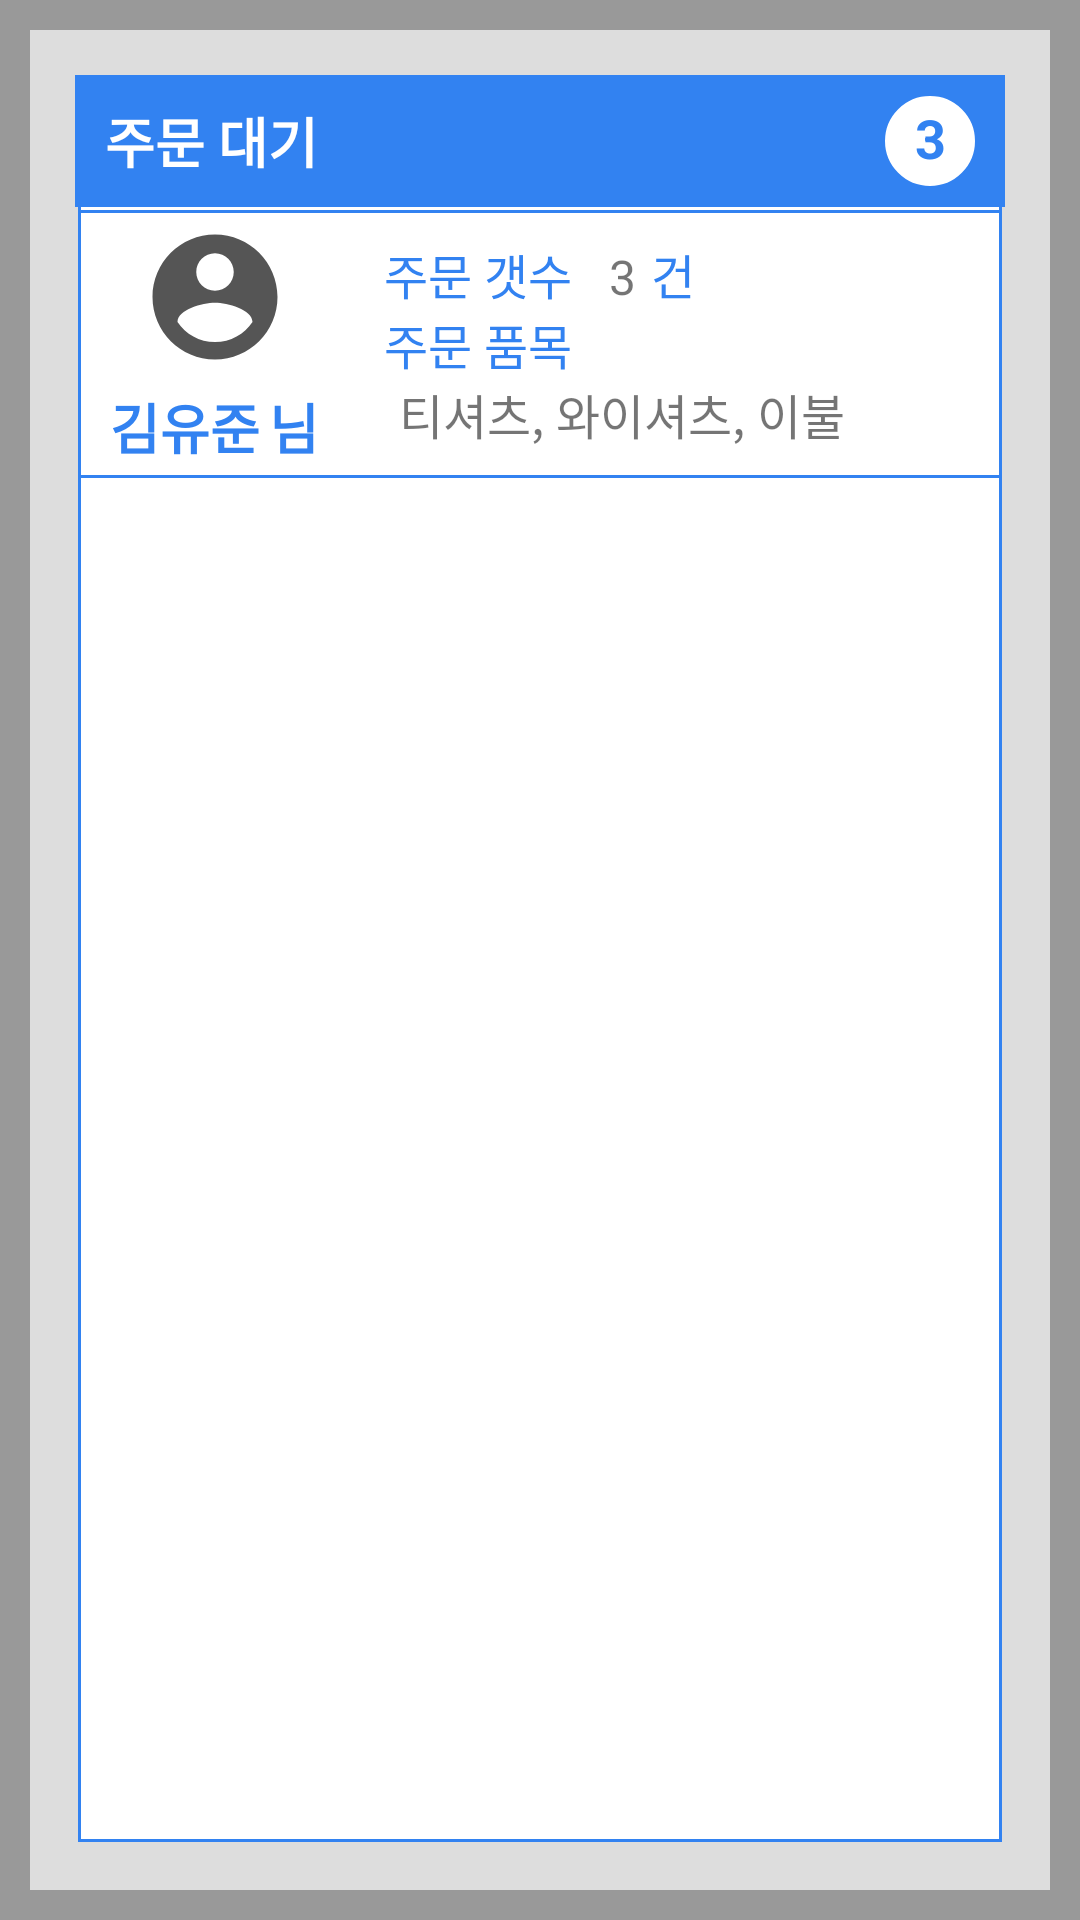

Icon bounding boxes for this 1080×1920 phone screenshot, format (x1=x1, y1=y1, x2=x2, y2=y2):
profile circle: (x1=152, y1=234, x2=278, y2=360)
